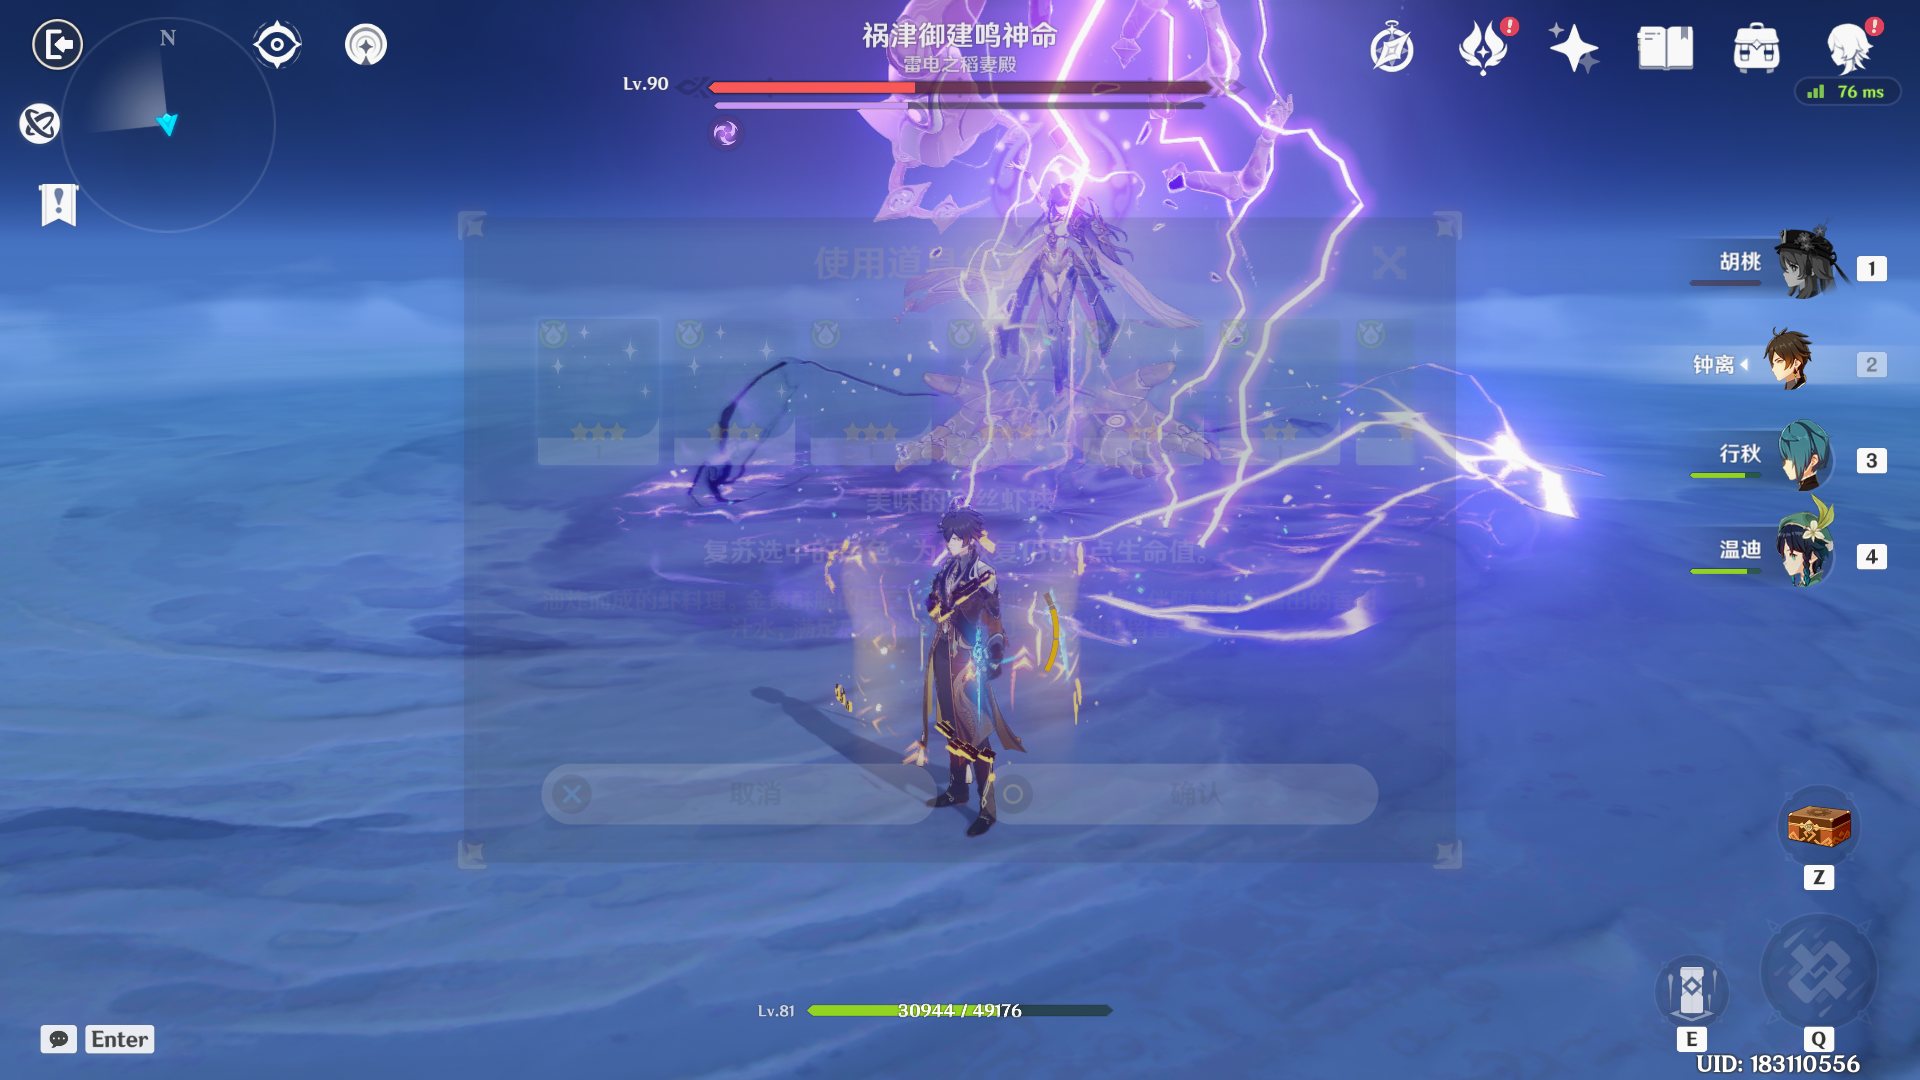character: (869, 469, 1034, 843), (973, 169, 1139, 419)
